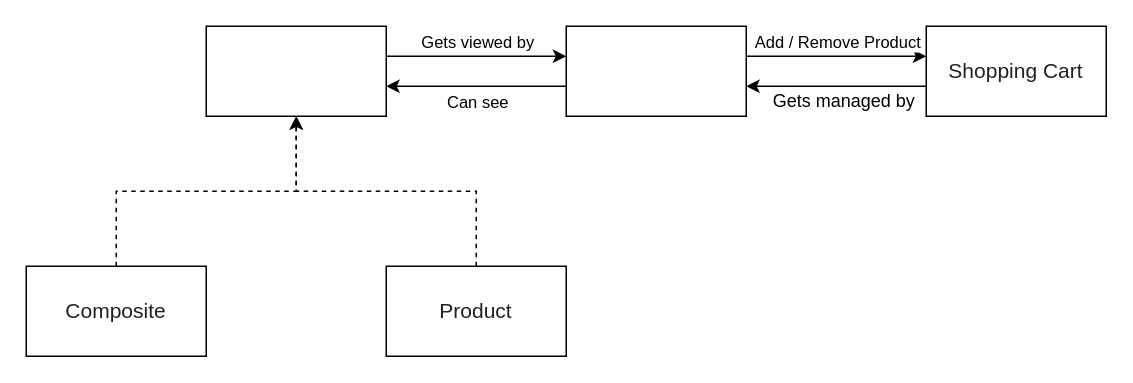
The diagram is 1133 pixels wide and 383 high, and some of its shapes have lost their labels. The centre of each missing label's shape, as x and y in pixels:
User: point (655, 70)
«Component » (Products): point (295, 70)
